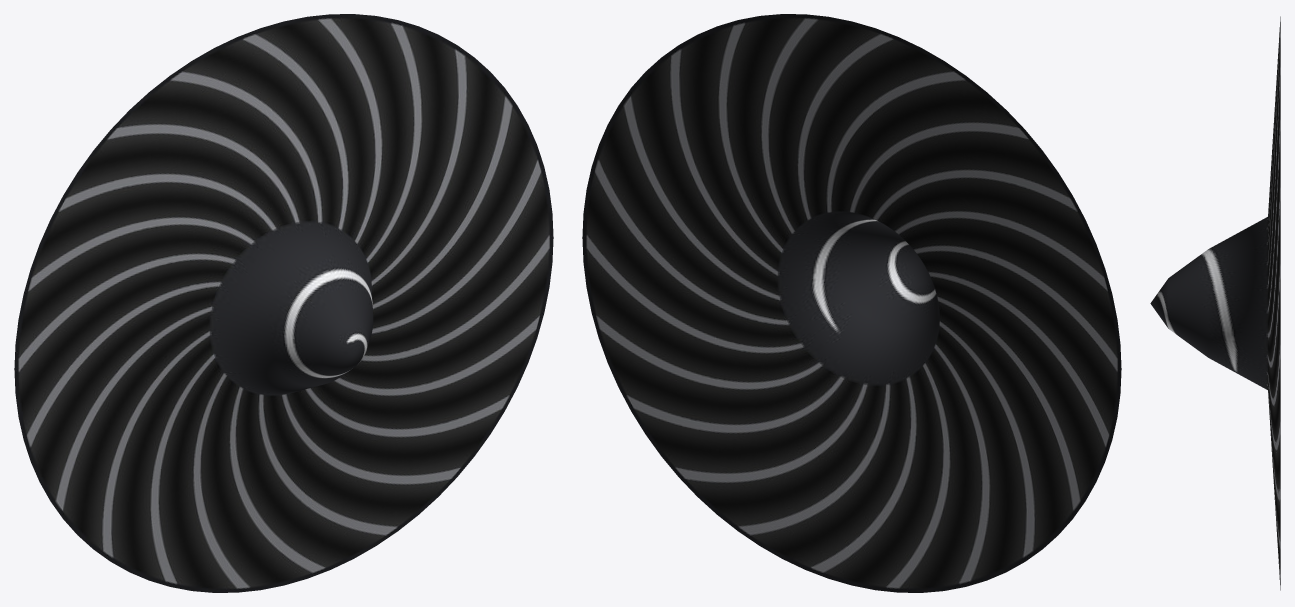
File: b777_300er_fan.glb
3 renders of one model, left to right at view 1: azimuth 30°, elevation 25°; view 2: azimuth 150°, elevation 25°; view 3: azimuth 270°, elevation 25°, orthographic. The views are drawn at different scales.
Parts seen in each view (by area): view 1: B777-300ER; view 2: B777-300ER; view 3: B777-300ER.
Part boxes in pixels (x1,y1,x2,y2): B777-300ER: [14, 14, 553, 592]; B777-300ER: [582, 14, 1121, 592]; B777-300ER: [1150, 16, 1280, 590].
Size of the model in its own units: 3.2 by 3.2 by 0.72.
1 material, 1 textured.
